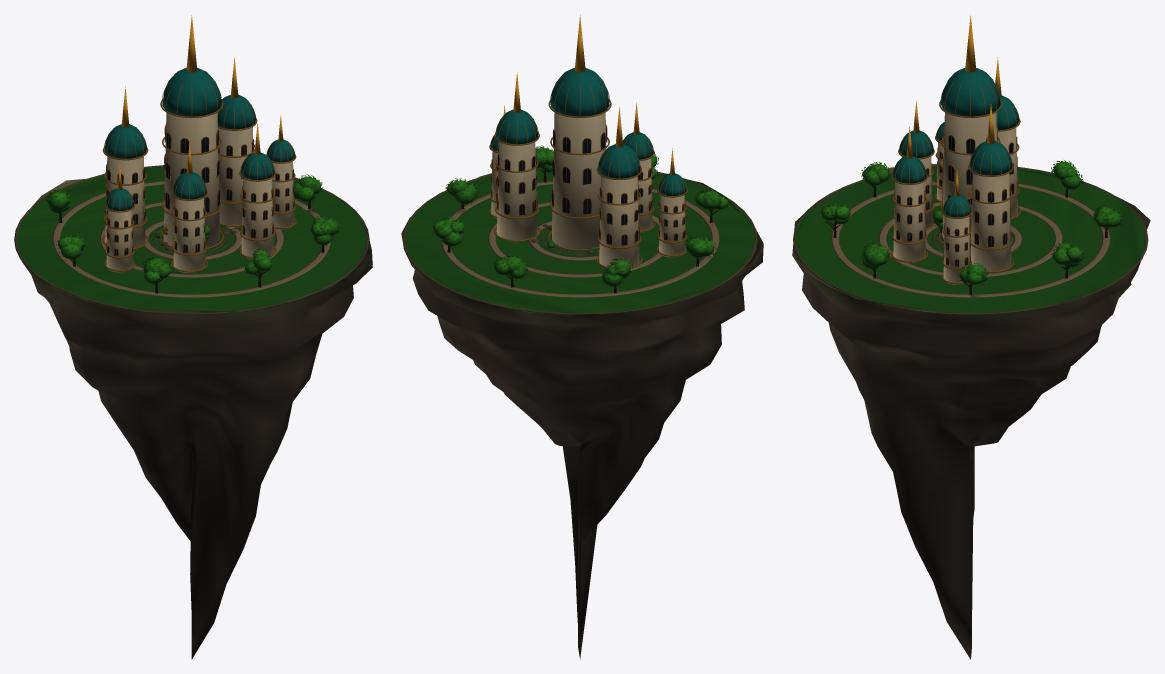
Rendered from world-0716f8db.glb.
The picture shows the model from 3 angles, left to right: view 1: azimuth 30°, elevation 25°; view 2: azimuth 150°, elevation 25°; view 3: azimuth 270°, elevation 25°; orthographic projection.
Visible parts, largest first — view 1: citadel; view 2: citadel; view 3: citadel.
Boxes of the visible parts, x1,y1,x2,y2 form: citadel: (14,15,372,659); citadel: (401,14,763,659); citadel: (792,15,1150,659).
Size of the model in its own units: 52.46 by 105 by 52.86.
